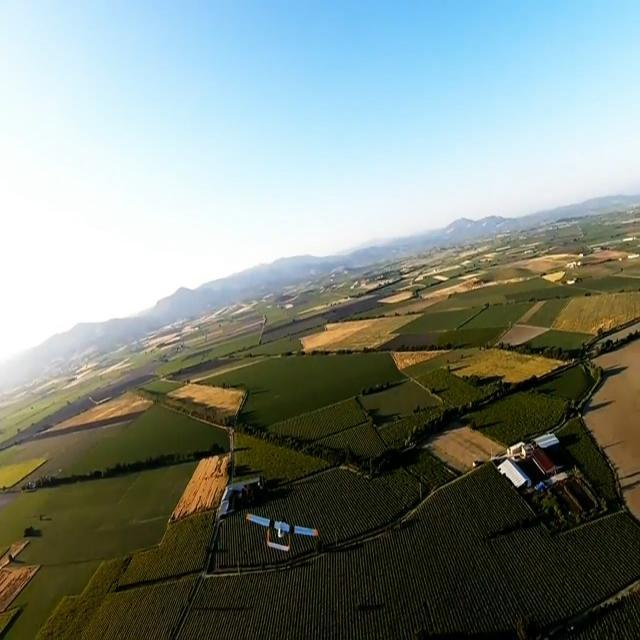iha: (274, 509, 288, 554)
